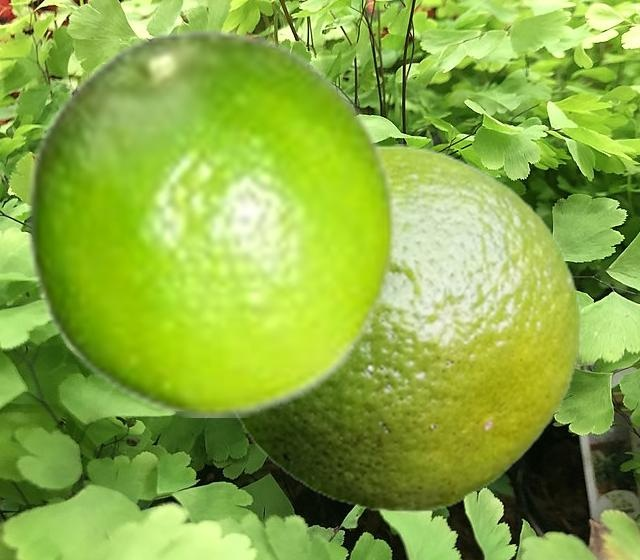calamansi: (25, 26, 399, 416), (233, 144, 579, 511)
